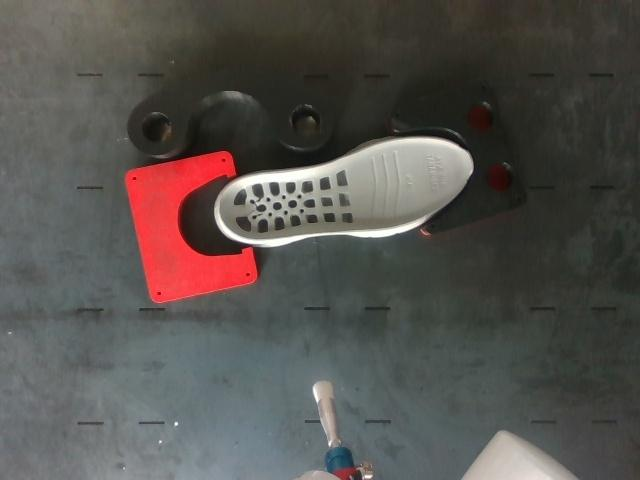shoes: (219, 139, 471, 239)
